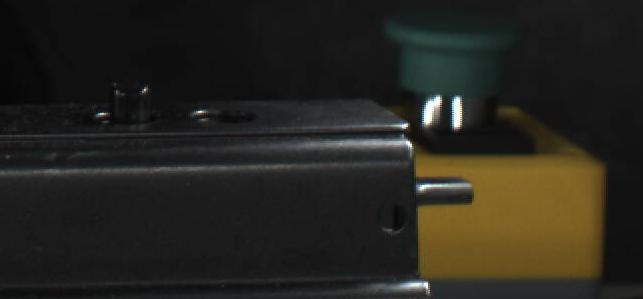rubber: (407, 171, 478, 208)
screw: (102, 75, 162, 128)
